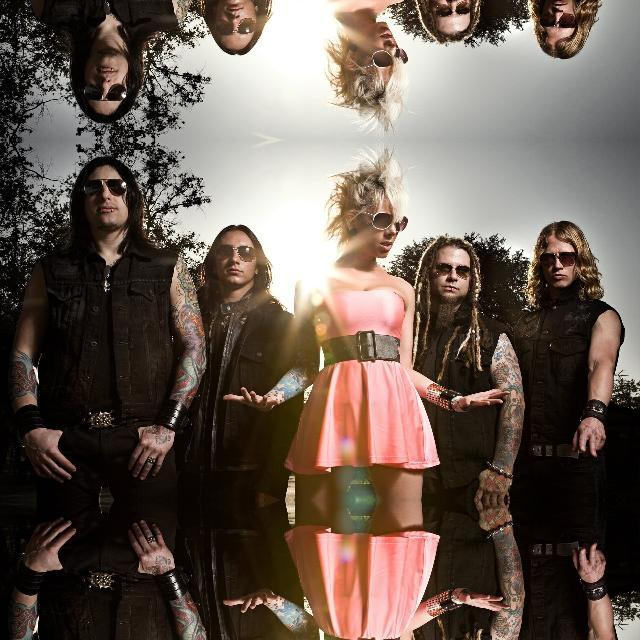person: (316, 158, 434, 404), (39, 158, 160, 292), (38, 0, 159, 122), (418, 238, 506, 402), (316, 0, 433, 122), (202, 222, 282, 354), (532, 220, 610, 354), (316, 596, 433, 640), (201, 0, 282, 58), (532, 0, 609, 60), (418, 0, 505, 42), (418, 598, 505, 640)
